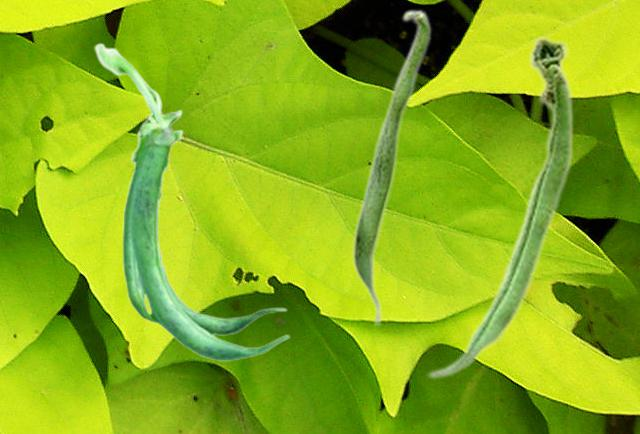french_bean: (93, 42, 289, 361), (426, 34, 573, 379), (351, 8, 431, 327)
